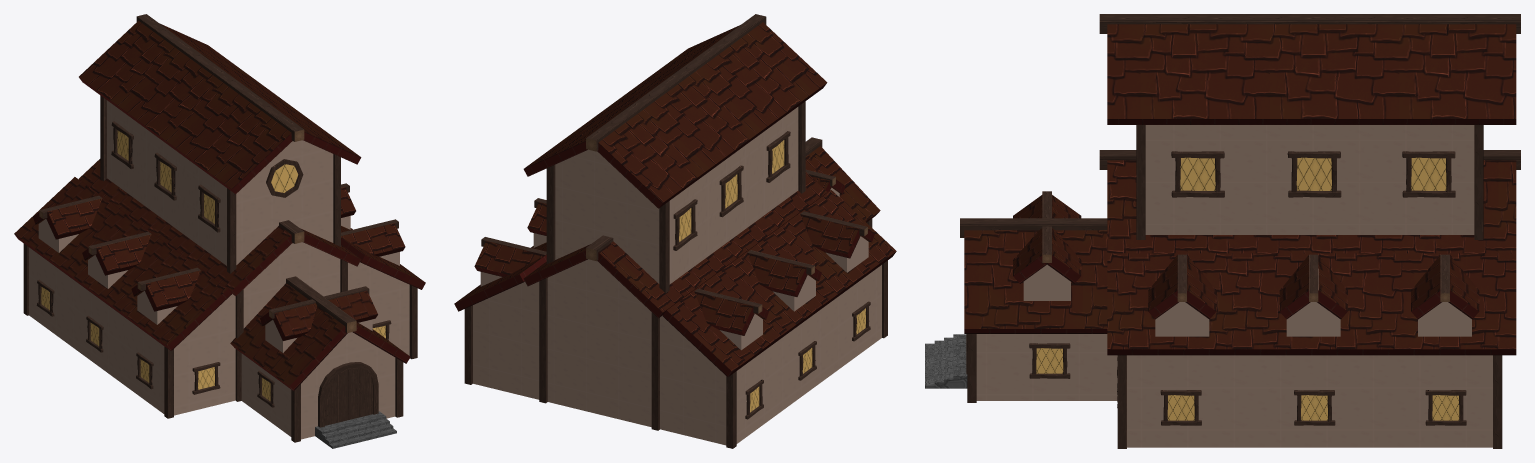
The model's file is hallExporting.fbx.
3 views of the same model, side by side, from view 1: azimuth 30°, elevation 25°; view 2: azimuth 150°, elevation 25°; view 3: azimuth 270°, elevation 25° (orthographic). The views are drawn at different scales.
Visible parts, largest first — view 1: Cube; view 2: Cube; view 3: Cube.
Part boxes in pixels (left/top/right/bottom): Cube: left=14, top=14, right=425, bottom=448; Cube: left=454, top=14, right=896, bottom=448; Cube: left=925, top=14, right=1520, bottom=448.
Bounding box in the file's own units: 21.24 × 20.61 × 31.73.
